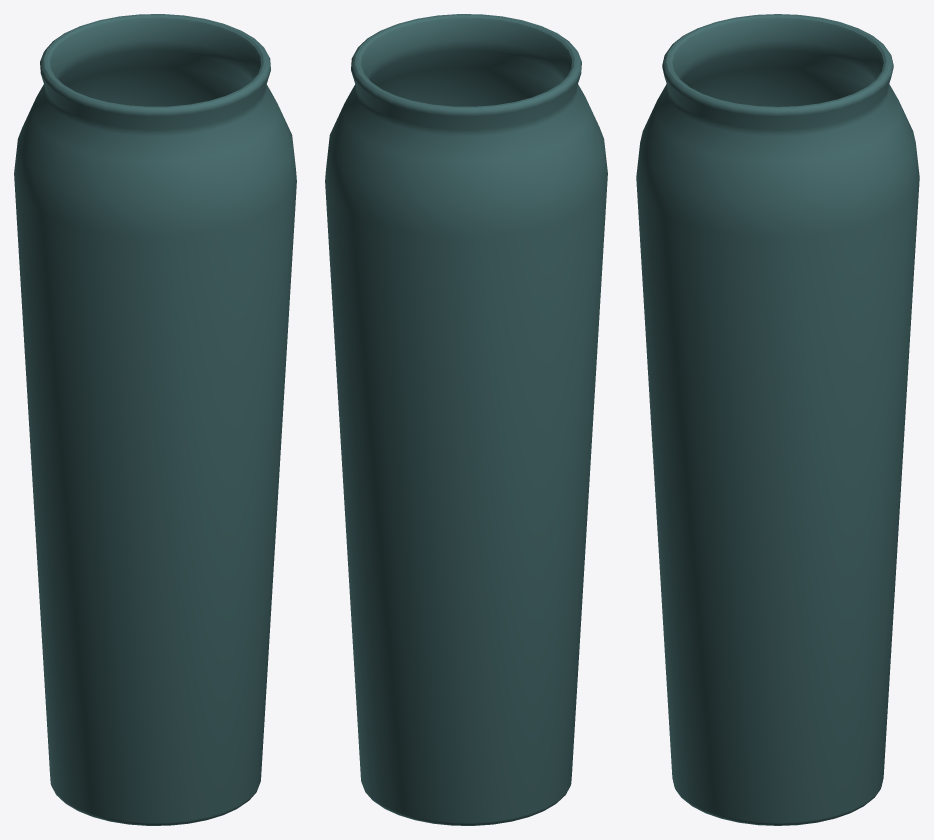
Rendered from vase.fbx.
3 renders of one model, left to right at view 1: azimuth 30°, elevation 25°; view 2: azimuth 150°, elevation 25°; view 3: azimuth 270°, elevation 25°, orthographic.
Parts seen in each view (by area): view 1: vase; view 2: vase; view 3: vase.
Boxes of the visible parts, x1,y1,x2,y2 form: vase: (14, 14, 296, 825); vase: (325, 14, 607, 825); vase: (636, 14, 919, 825).
Bounding box in the file's own units: 0.0963 × 0.0963 × 0.2709.
